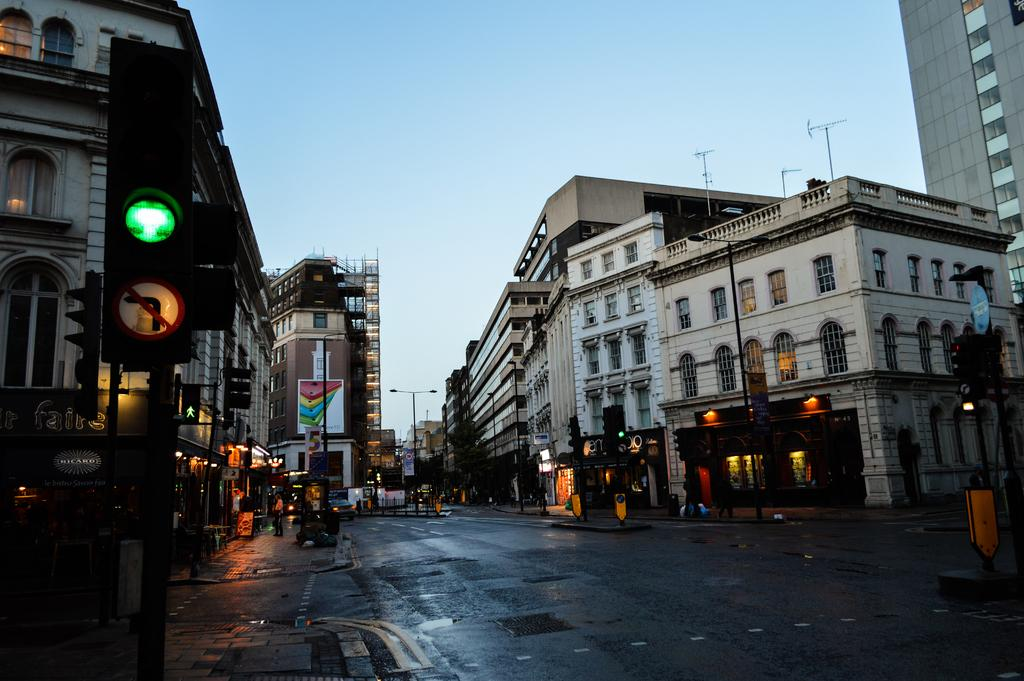green_light: (107, 36, 196, 267), (614, 410, 627, 439)
